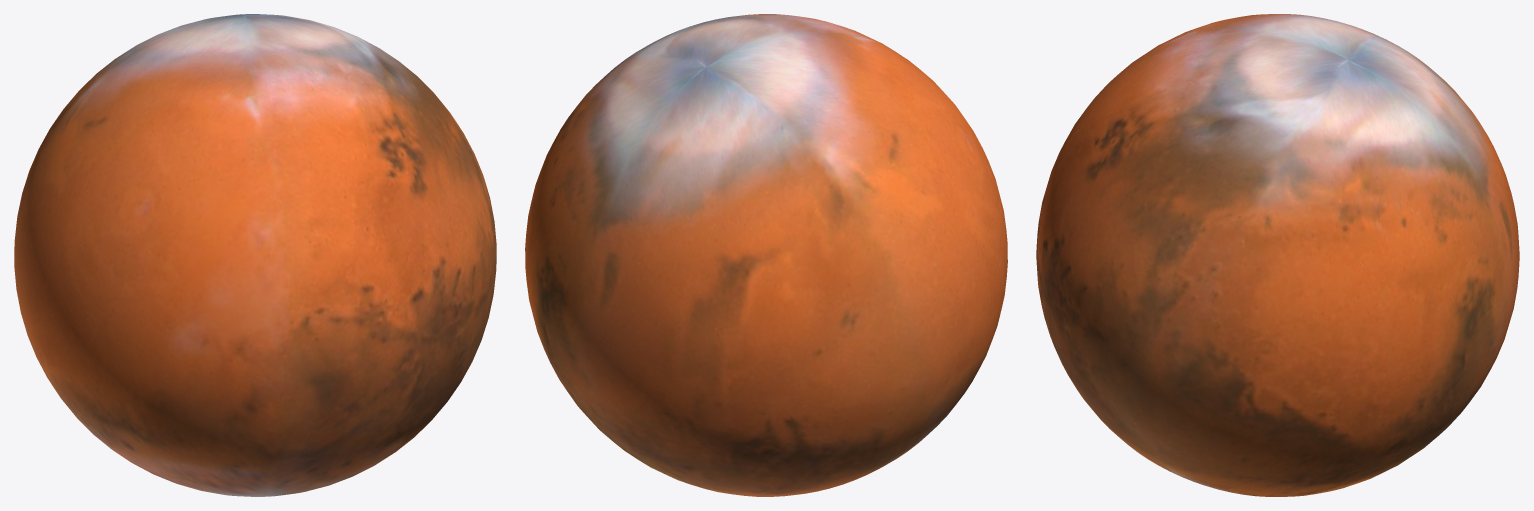
Rendered from Mars.fbx.
The picture shows the model from 3 angles, left to right: view 1: azimuth 30°, elevation 25°; view 2: azimuth 150°, elevation 25°; view 3: azimuth 270°, elevation 25°; orthographic projection.
Visible parts, largest first — view 1: Sphere; view 2: Sphere; view 3: Sphere.
Boxes of the visible parts, x1=… form: Sphere: x1=14, y1=14, x2=496, y2=496; Sphere: x1=525, y1=14, x2=1007, y2=496; Sphere: x1=1036, y1=14, x2=1519, y2=496.
Size of the model in its own units: 200 by 200 by 200.
